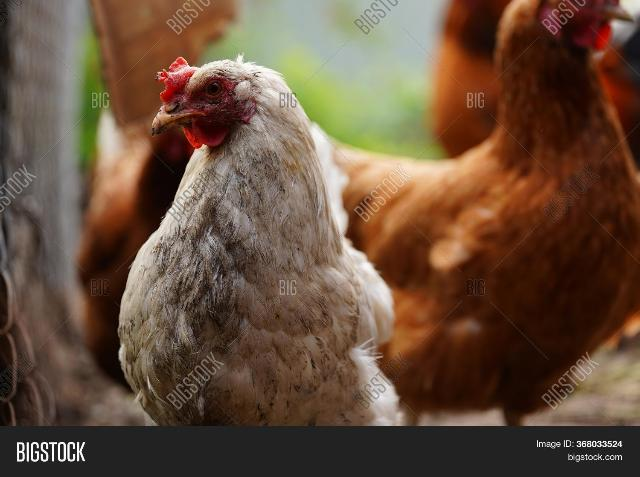Chicken: (312, 0, 640, 425), (114, 52, 398, 425)
